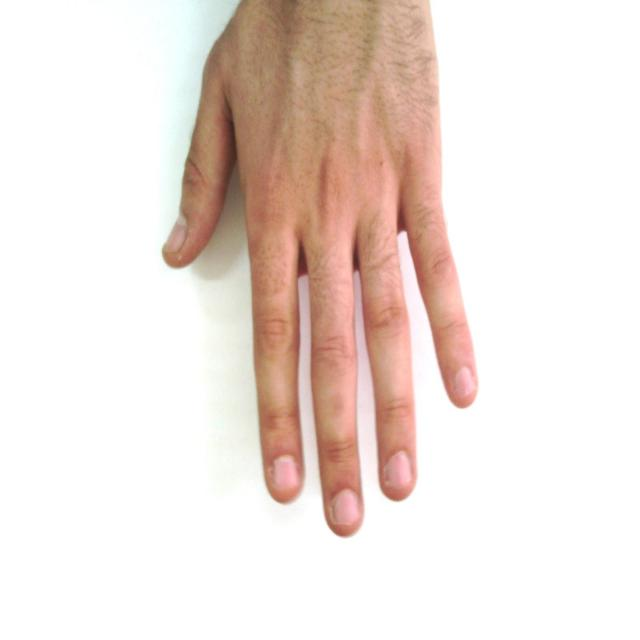others: (157, 0, 499, 574)
